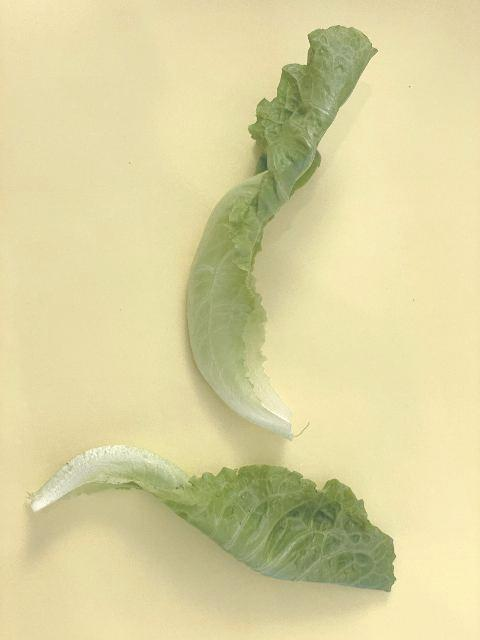lettuce: (181, 24, 379, 446), (24, 444, 398, 594)
